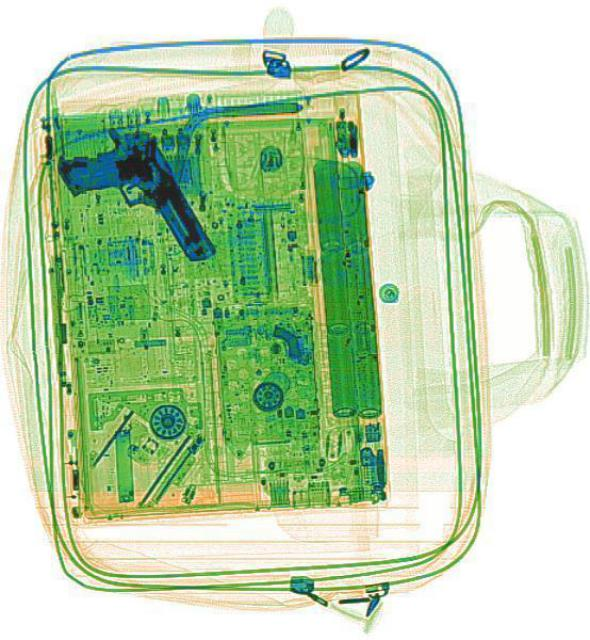Gun: (50, 111, 217, 299)
